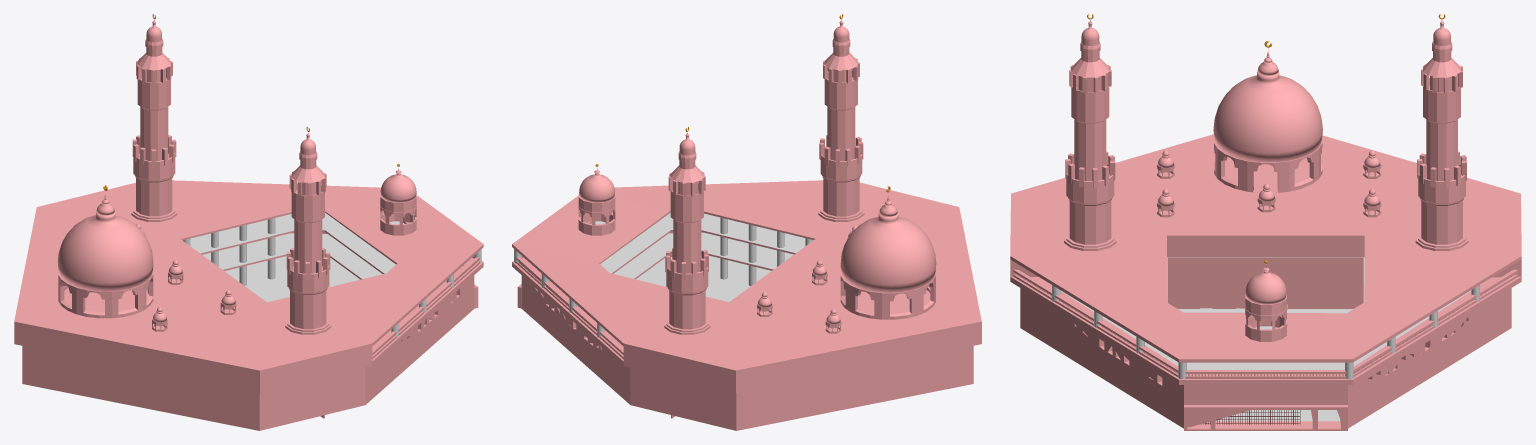
Rendered from Mosque.fbx.
3 renders of one model, left to right at view 1: azimuth 30°, elevation 25°; view 2: azimuth 150°, elevation 25°; view 3: azimuth 270°, elevation 25°, orthographic. The views are drawn at different scales.
Parts seen in each view (by area): view 1: Mosque.001, Cylinder, Cylinder.003, Cylinder.002, Tower small, Cylinder.011, Cube.004, Cube.013, Cube.001; view 2: Mosque.001, Cylinder, Cylinder.003, Cylinder.002, Tower small, Cylinder.010, Cube.004, Cube.001, Cube.013; view 3: Mosque.001, Cylinder, Cylinder.003, Cylinder.002, Cube.004, Tower small, Entrance, Cube.001, Cube.013, Cube, Cube.002, Cube.015.
Boxes of the visible parts, x1=… form: Mosque.001: x1=14, y1=180, x2=483, y2=430; Cylinder: x1=57, y1=185, x2=153, y2=318; Cylinder.003: x1=285, y1=126, x2=331, y2=334; Cylinder.002: x1=131, y1=14, x2=177, y2=221; Tower small: x1=380, y1=164, x2=417, y2=235; Cylinder.011: x1=183, y1=218, x2=275, y2=285; Cube.004: x1=372, y1=256, x2=480, y2=358; Cube.013: x1=132, y1=135, x2=176, y2=166; Cube.001: x1=286, y1=248, x2=330, y2=279; Mosque.001: x1=512, y1=180, x2=981, y2=430; Cylinder: x1=840, y1=186, x2=936, y2=319; Cylinder.003: x1=818, y1=14, x2=864, y2=221; Cylinder.002: x1=664, y1=126, x2=710, y2=334; Tower small: x1=578, y1=164, x2=615, y2=235; Cylinder.010: x1=720, y1=217, x2=812, y2=286; Cube.004: x1=516, y1=256, x2=623, y2=358; Cube.001: x1=819, y1=135, x2=863, y2=166; Cube.013: x1=665, y1=248, x2=708, y2=279; Mosque.001: x1=1010, y1=134, x2=1521, y2=428; Cylinder: x1=1213, y1=41, x2=1322, y2=193; Cylinder.003: x1=1064, y1=14, x2=1116, y2=250; Cylinder.002: x1=1415, y1=14, x2=1468, y2=250; Cube.004: x1=1013, y1=269, x2=1518, y2=378; Tower small: x1=1245, y1=260, x2=1287, y2=341; Entrance: x1=1184, y1=405, x2=1347, y2=430; Cube.001: x1=1065, y1=151, x2=1115, y2=187; Cube.013: x1=1417, y1=151, x2=1466, y2=188; Cube: x1=1069, y1=65, x2=1111, y2=93; Cube.002: x1=1421, y1=64, x2=1462, y2=93; Cube.015: x1=1201, y1=410, x2=1300, y2=424.
Size of the model in its own units: 6382 by 3836 by 5737.
